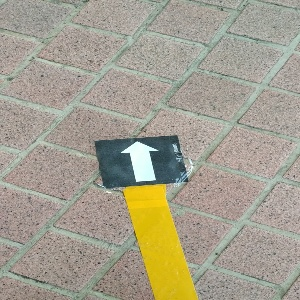straight: (95, 135, 189, 187)
